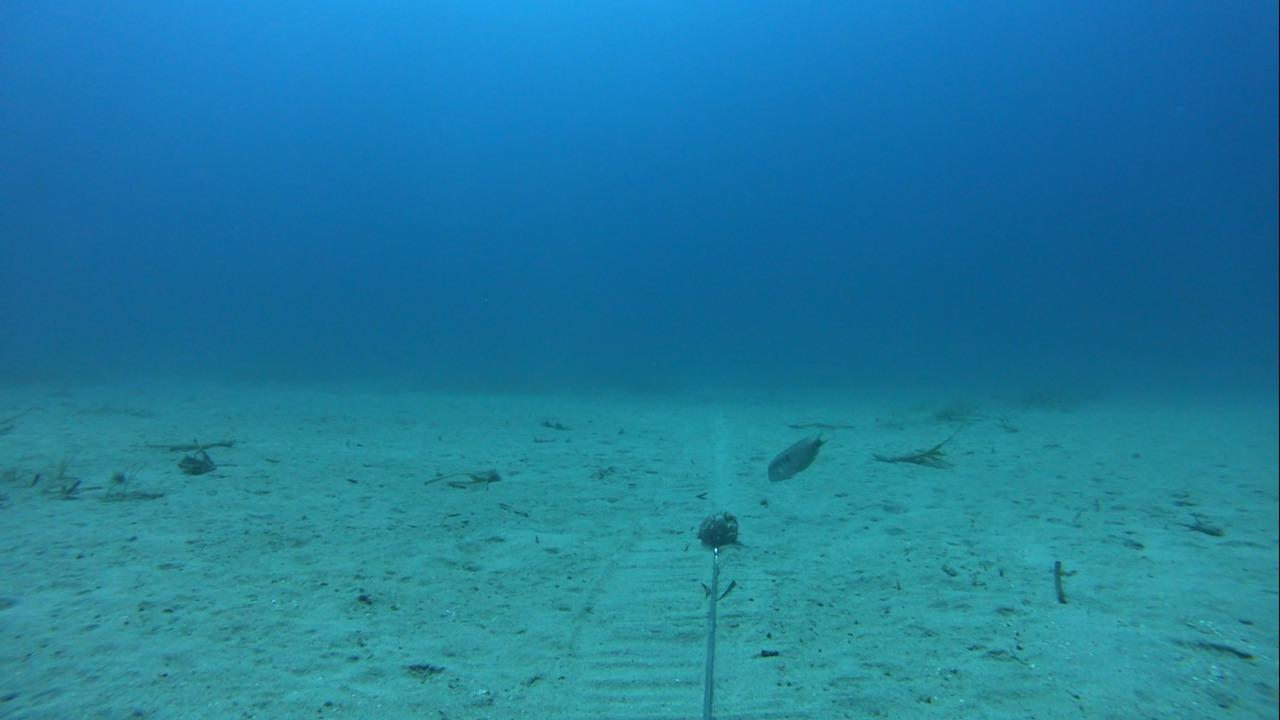raor: (762, 427, 826, 482)
